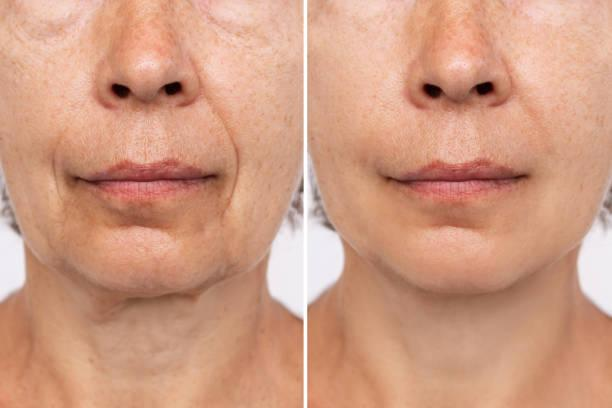Dry-Skin: (493, 0, 608, 204), (200, 10, 315, 203)
